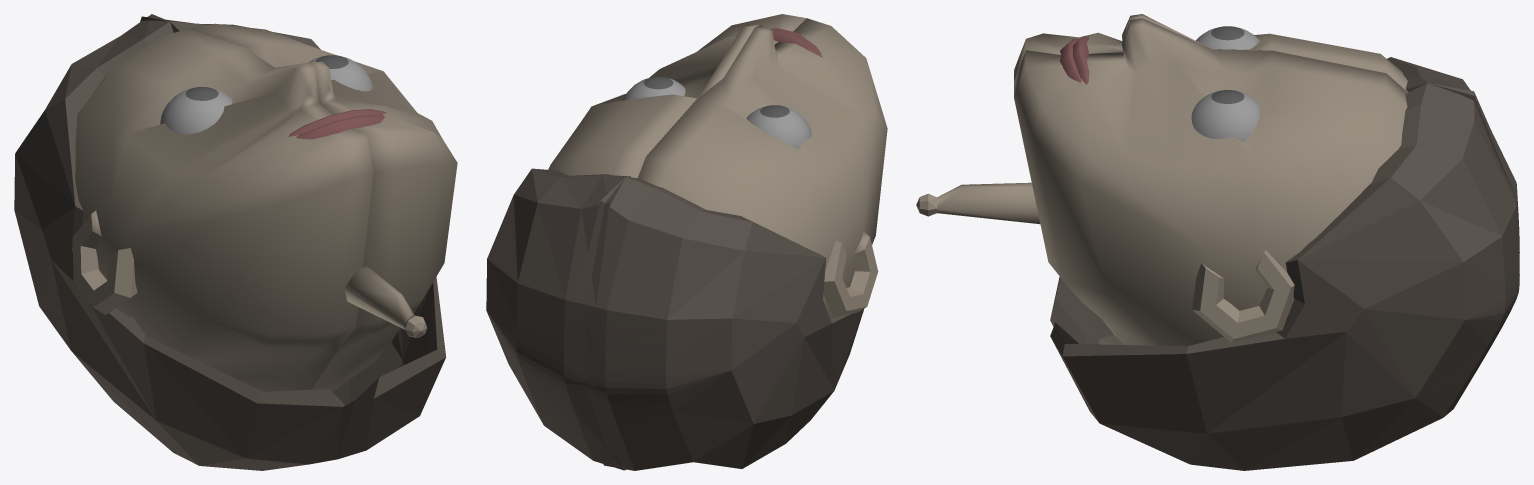
File: head.dae
3 renders of one model, left to right at view 1: azimuth 30°, elevation 25°; view 2: azimuth 150°, elevation 25°; view 3: azimuth 270°, elevation 25°, orthographic. The views are drawn at different scales.
Visible parts, largest first — view 1: Mesh_010; view 2: Mesh_010; view 3: Mesh_010.
Boxes of the visible parts, bbox=[...] form: Mesh_010: bbox=[14, 14, 457, 470]; Mesh_010: bbox=[486, 14, 887, 470]; Mesh_010: bbox=[916, 14, 1519, 470].
Size of the model in its own units: 8.4 by 12.84 by 10.16.
